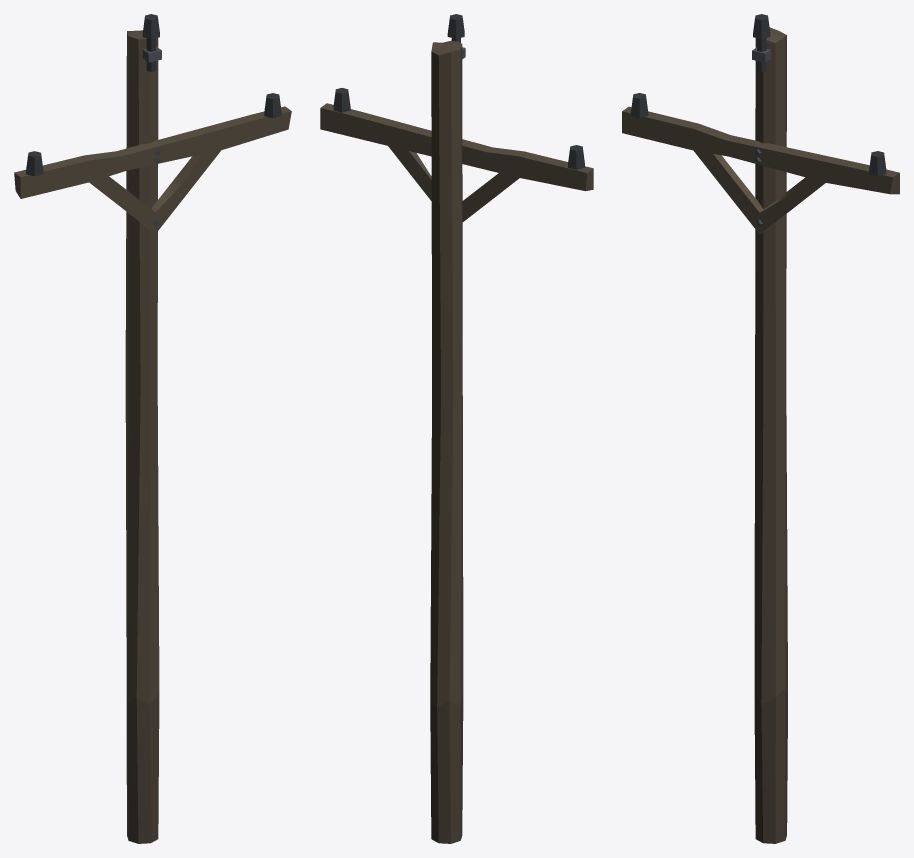
File: SM_Prop_Power_Pole_01.glb
3 renders of one model, left to right at view 1: azimuth 30°, elevation 25°; view 2: azimuth 150°, elevation 25°; view 3: azimuth 330°, elevation 25°, orthographic.
Visible parts, largest first — view 1: SM_Prop_Power_Pole_01; view 2: SM_Prop_Power_Pole_01; view 3: SM_Prop_Power_Pole_01.
Boxes of the visible parts, x1=… form: SM_Prop_Power_Pole_01: x1=14, y1=14, x2=291, y2=843; SM_Prop_Power_Pole_01: x1=320, y1=14, x2=593, y2=843; SM_Prop_Power_Pole_01: x1=622, y1=14, x2=899, y2=843.
Size of the model in its own units: 2.22 by 6.48 by 0.3512.
Materials: 1 (1 with a texture image).
